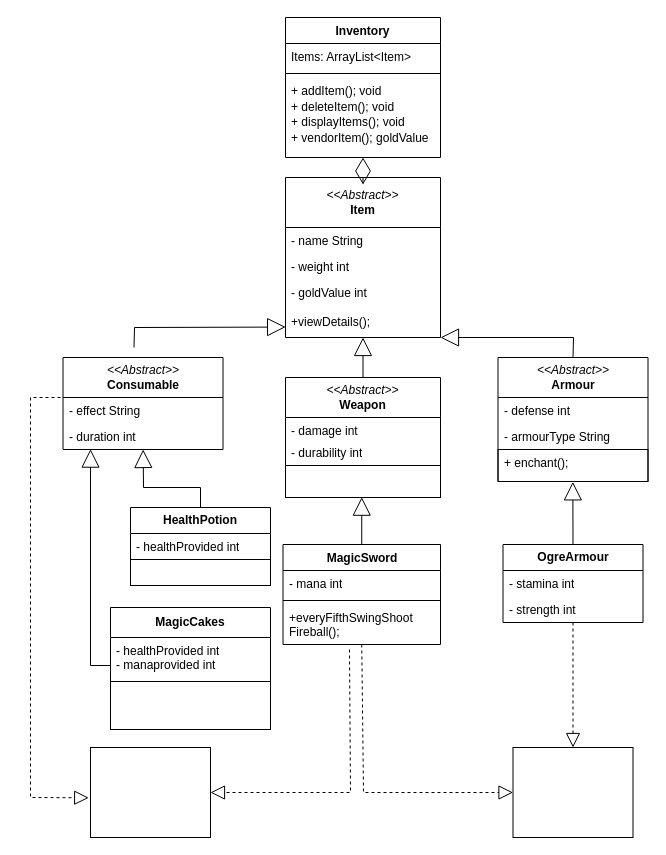
The diagram is 666 pixels wide and 855 high, and some of its shapes have lost their labels. Here are the shapes that lost their labels. From the top down, the centre of each, then its label:
At point (362, 481): "+ attack();".
At point (200, 572): "+ restoreHealth();".
At point (190, 705): "+ restoreHealthOverTime(); + restoreManaOverTime():".
At point (150, 792): "<<Interface>> Usable + use(); void".
At point (572, 792): "<<Interface>> Equippable + equip(); void + unEquip();void".
